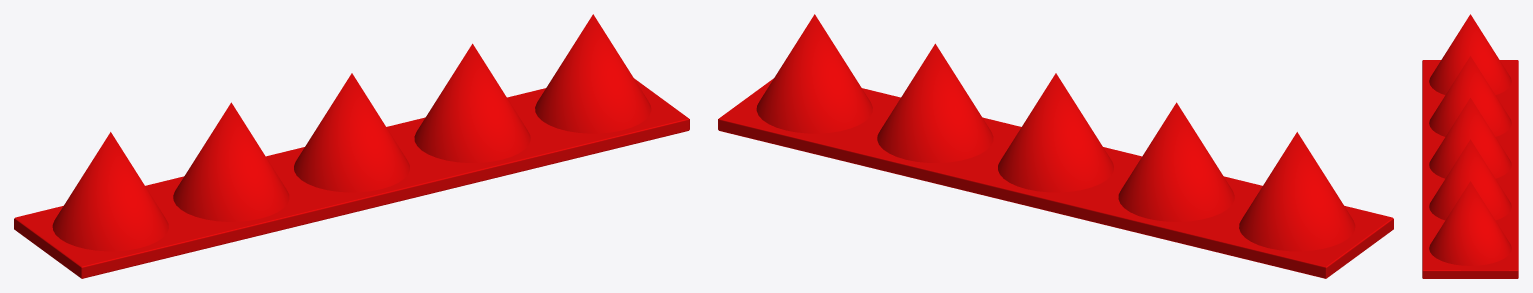
The model's file is spike.fbx.
3 renders of one model, left to right at view 1: azimuth 30°, elevation 25°; view 2: azimuth 150°, elevation 25°; view 3: azimuth 270°, elevation 25°, orthographic. The views are drawn at different scales.
Visible parts, largest first — view 1: spikes; view 2: spikes; view 3: spikes.
Part boxes in pixels (x1,y1,x2,y2): spikes: (14, 14, 689, 278); spikes: (718, 14, 1393, 278); spikes: (1422, 14, 1518, 278).
Bounding box in the file's own units: 505 × 85.32 × 97.74.
